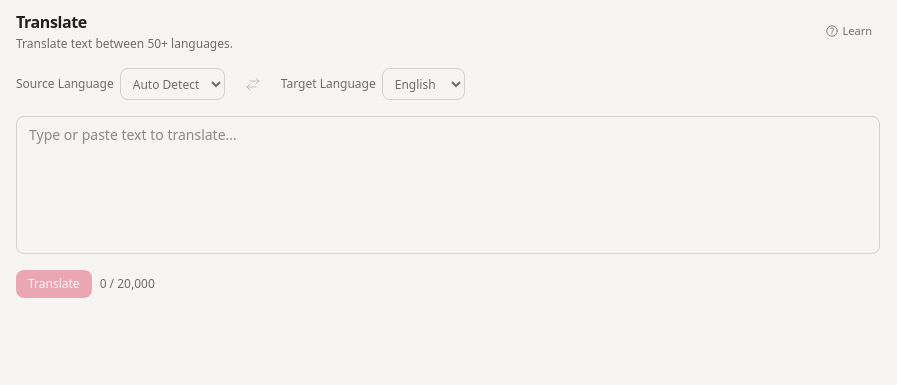
Test: TranslateView › shows the offline/pack hint on backend failure
Type "Hello" into the text box with placeholder "Type or paste text to translate…" at (448, 185), box [16, 116, 880, 254]
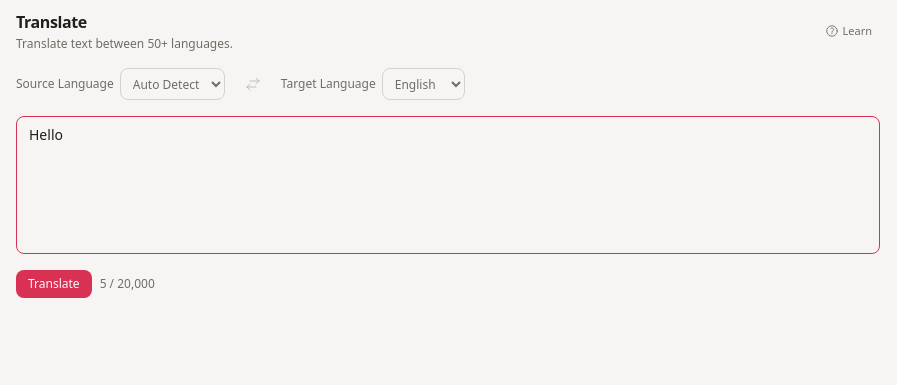
Click the button "Translate" at (54, 284), box [16, 270, 92, 298]
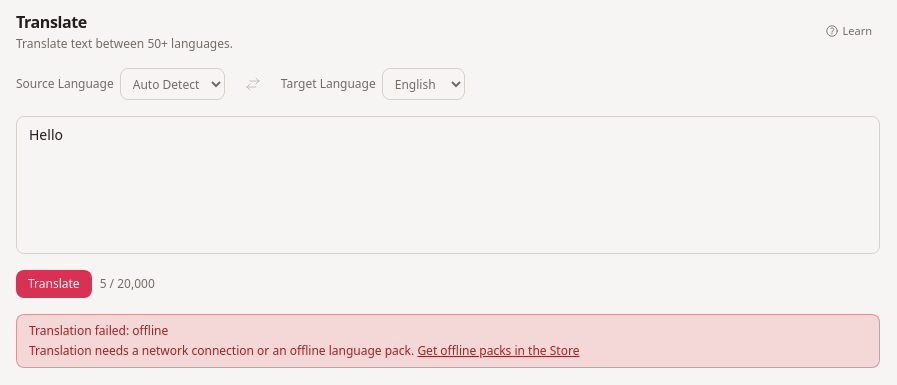
Expected: the text "Translation failed: offline" is shown, [29, 322, 168, 339]
Expected: the link "Get offline packs in the Store" is shown, [417, 342, 580, 359]
